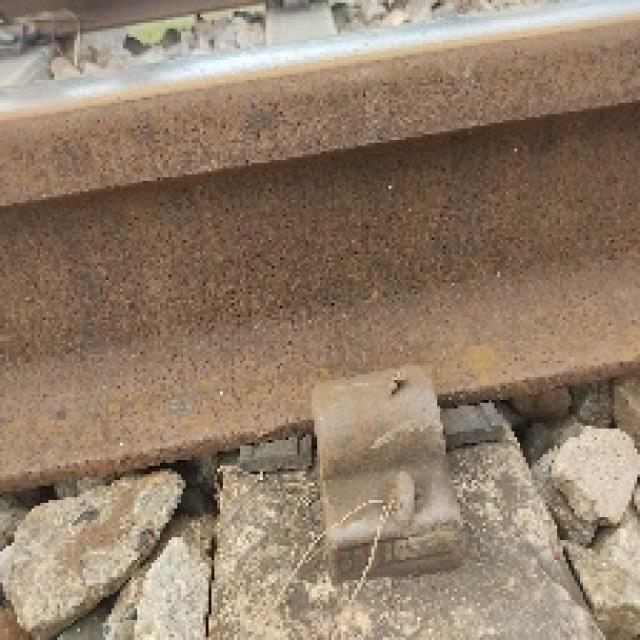Missing Fastener: (282, 300, 485, 603)
